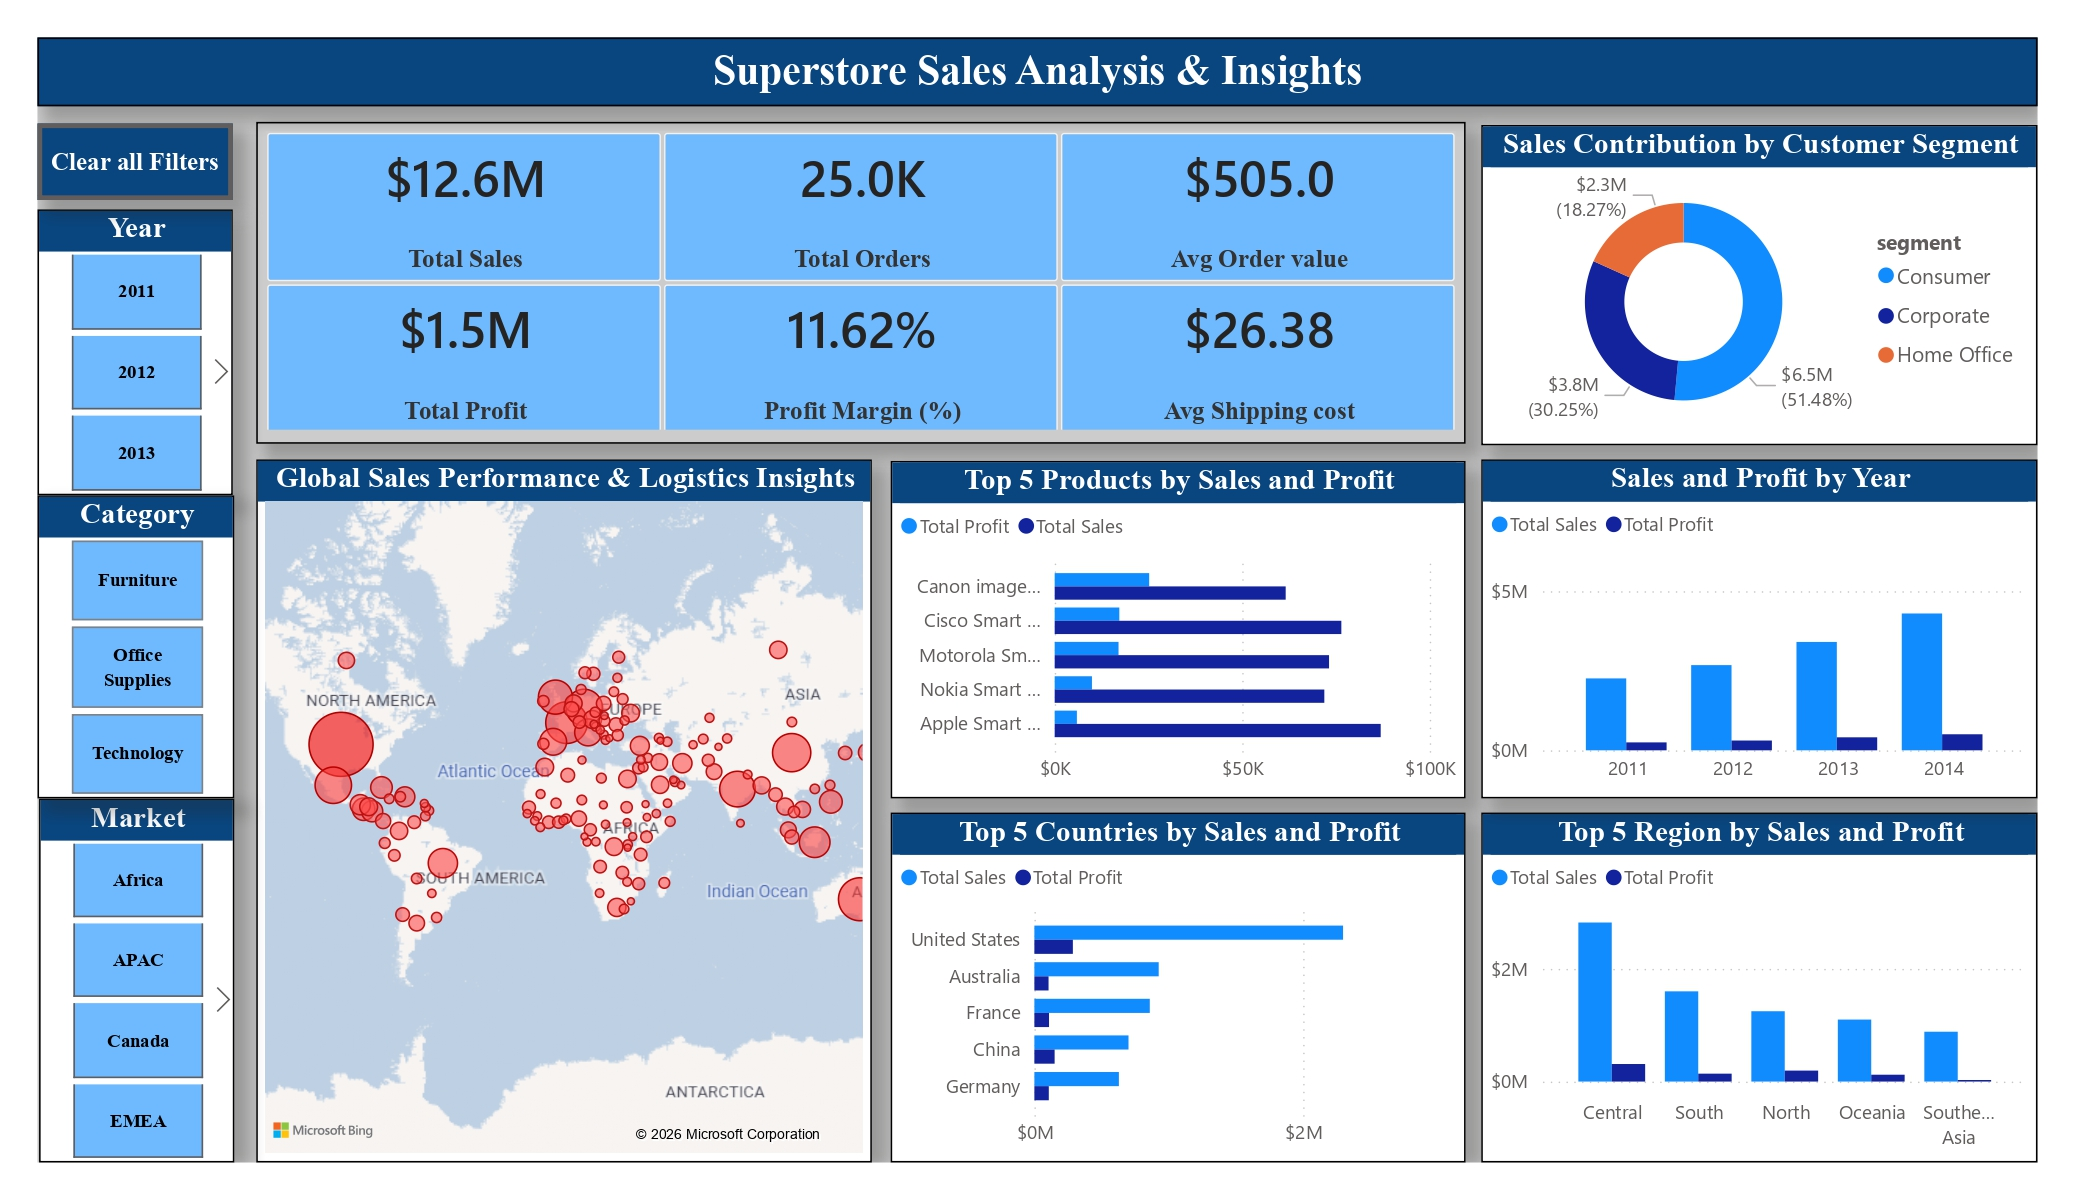

The page's visual inventory and layout, read from the dashboard file:
{"tool":"powerbi","page":{"name":"Page 1","canvas":[1280,720],"ordinal":0},"visuals":[{"type":"textbox","box":[0,0,1280,43.8],"z":0},{"type":"cardVisual","fields":{"Data":["SuperStoreOrders.Total Sales","SuperStoreOrders.Total Orders","SuperStoreOrders.Avg Order value","SuperStoreOrders.Total Profit","SuperStoreOrders.Profit Margin (%)","SuperStoreOrders.Avg Shipping cost","SuperStoreOrders.Avg Order value"]},"box":[140,54.3,774.3,205.7],"z":1000},{"type":"slicer","title":"Year","fields":{"Values":["SuperStoreOrders.year"]},"box":[0,110,125,182.5],"z":1001},{"type":"map","title":"Global Sales Performance & Logistics Insights","fields":{"Category":["SuperStoreOrders.country"],"Size":["SuperStoreOrders.Total Sales"]},"box":[140,270,393.8,450],"z":1003},{"type":"donutChart","title":"Sales Contribution by Customer Segment","fields":{"Y":["SuperStoreOrders.Total Sales"],"Category":["SuperStoreOrders.segment"]},"box":[924.3,55.7,355.7,205.7],"z":1004},{"type":"clusteredBarChart","title":"Top 5 Products by Sales and Profit","fields":{"Category":["SuperStoreOrders.product_name"],"Y":["SuperStoreOrders.Total Profit","SuperStoreOrders.Total Sales"]},"box":[545.7,271.4,368.6,215.7],"z":1005},{"type":"clusteredBarChart","title":"Top 5 Countries by Sales and Profit","fields":{"Y":["SuperStoreOrders.Total Sales","SuperStoreOrders.Total Profit"],"Category":["SuperStoreOrders.country"]},"box":[545.7,495.7,368.6,224.3],"z":1006},{"type":"clusteredColumnChart","title":"Top 5 Region by Sales and Profit","fields":{"Y":["SuperStoreOrders.Total Sales","SuperStoreOrders.Total Profit"],"Category":["SuperStoreOrders.region"]},"box":[924.3,495.7,355.7,224.3],"z":1007},{"type":"lineClusteredColumnComboChart","title":"Sales and Profit by Year","fields":{"Category":["SuperStoreOrders.year"],"Y":["SuperStoreOrders.Total Sales","SuperStoreOrders.Total Profit"]},"box":[924.3,270,355.7,217.1],"z":1008},{"type":"slicer","title":"Market","fields":{"Values":["SuperStoreOrders.market"]},"box":[1.4,487.1,124.3,232.9],"z":1010},{"type":"slicer","title":"Category","fields":{"Values":["SuperStoreOrders.category"]},"box":[0,292.9,125.7,194.3],"z":1011},{"type":"actionButton","box":[0,54.9,124.9,49.4],"z":1012}]}

Visuals, with their boxes in screenshot pixels (x1, y1, x2, y2):
textbox: select_region(38, 32, 2012, 100)
cardVisual - SuperStoreOrders.Total Sales x SuperStoreOrders.Total Orders: select_region(254, 116, 1448, 433)
"Year" slicer: select_region(38, 202, 231, 483)
"Global Sales Performance & Logistics Insights" map: select_region(254, 449, 861, 1143)
"Sales Contribution by Customer Segment" donutChart: select_region(1463, 118, 2012, 436)
"Top 5 Products by Sales and Profit" clusteredBarChart: select_region(879, 451, 1448, 784)
"Top 5 Countries by Sales and Profit" clusteredBarChart: select_region(879, 797, 1448, 1143)
"Top 5 Region by Sales and Profit" clusteredColumnChart: select_region(1463, 797, 2012, 1143)
"Sales and Profit by Year" lineClusteredColumnComboChart: select_region(1463, 449, 2012, 784)
"Market" slicer: select_region(40, 784, 232, 1143)
"Category" slicer: select_region(38, 484, 232, 784)
actionButton: select_region(38, 117, 230, 193)
